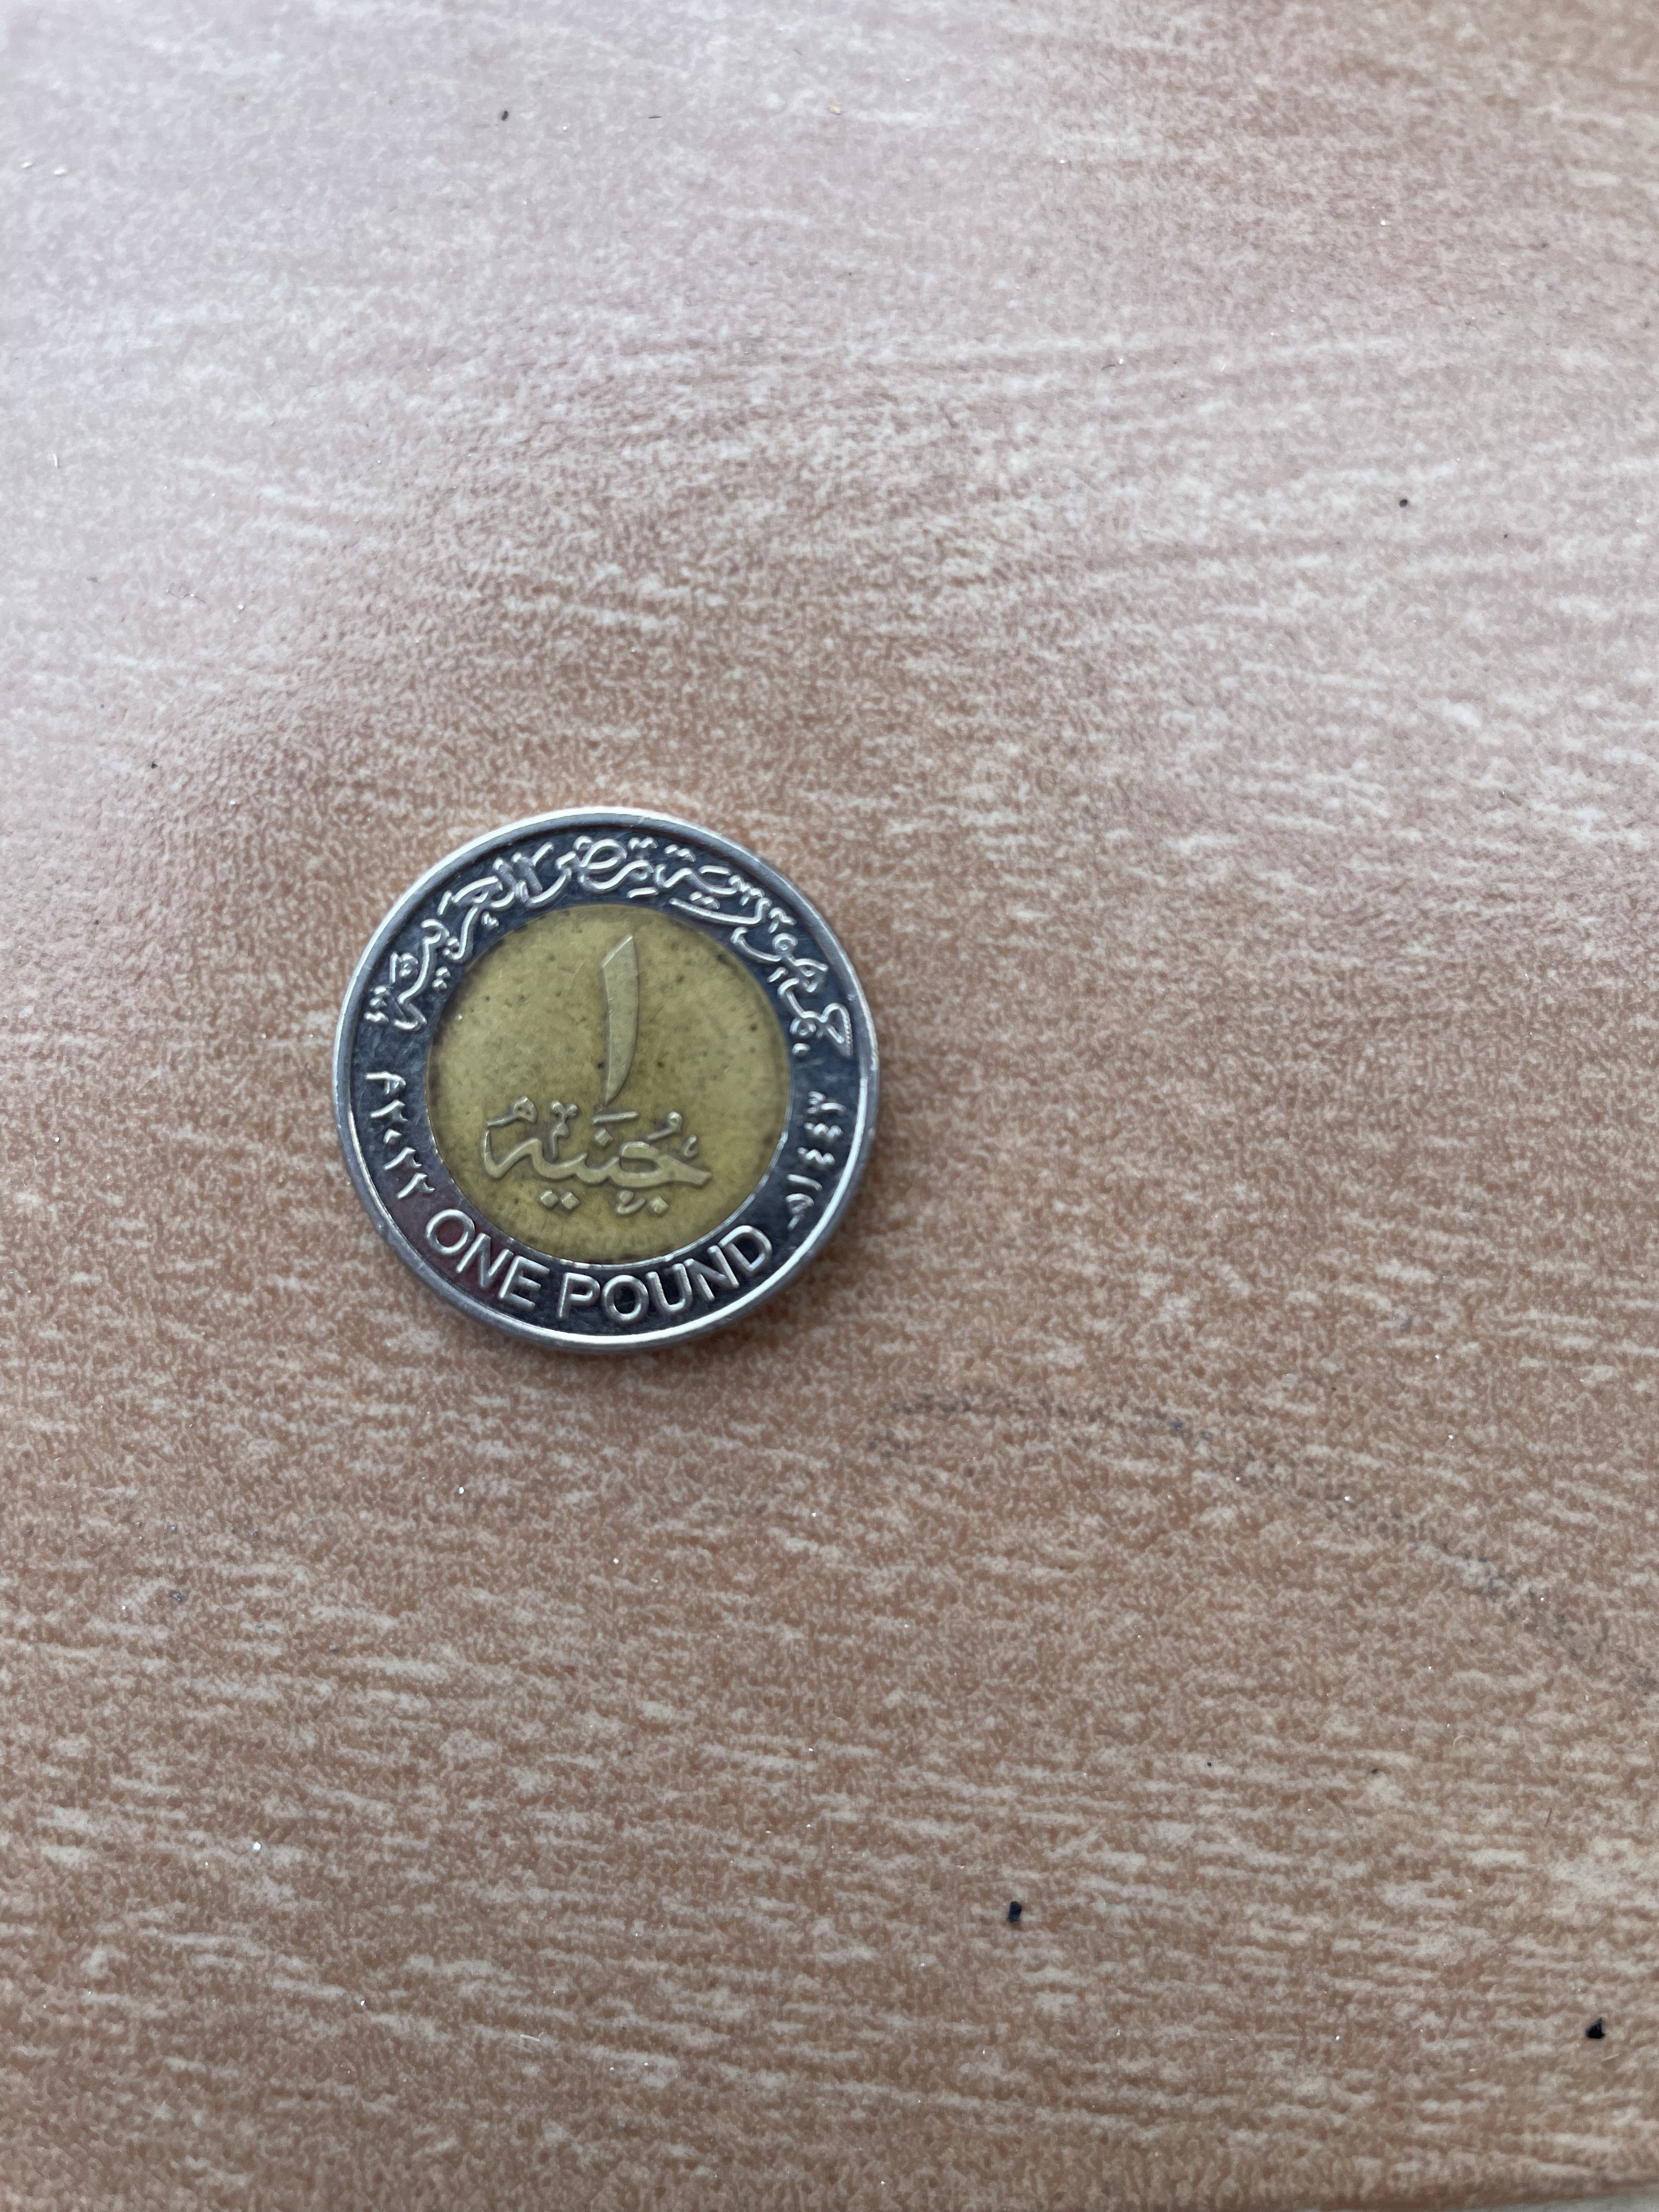one: (328, 801, 878, 1359)
